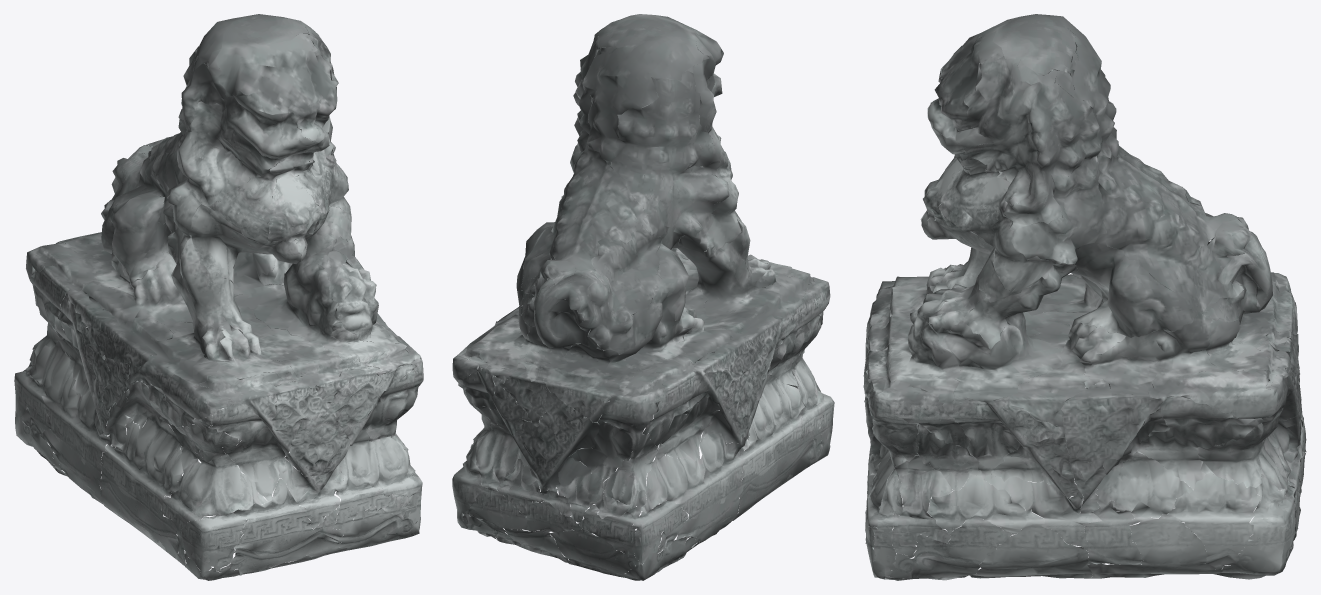
The model's file is stone-lion-male.glb.
3 views of the same model, side by side, from view 1: azimuth 30°, elevation 25°; view 2: azimuth 150°, elevation 25°; view 3: azimuth 270°, elevation 25° (orthographic). The views are drawn at different scales.
Parts seen in each view (by area): view 1: LionMale; view 2: LionMale; view 3: LionMale.
Part boxes in pixels (x1,y1,x2,y2): LionMale: [14, 14, 423, 580]; LionMale: [452, 14, 834, 580]; LionMale: [863, 14, 1306, 580].
Size of the model in its own units: 0.5569 by 1.08 by 0.8435.
1 material, 1 textured.
